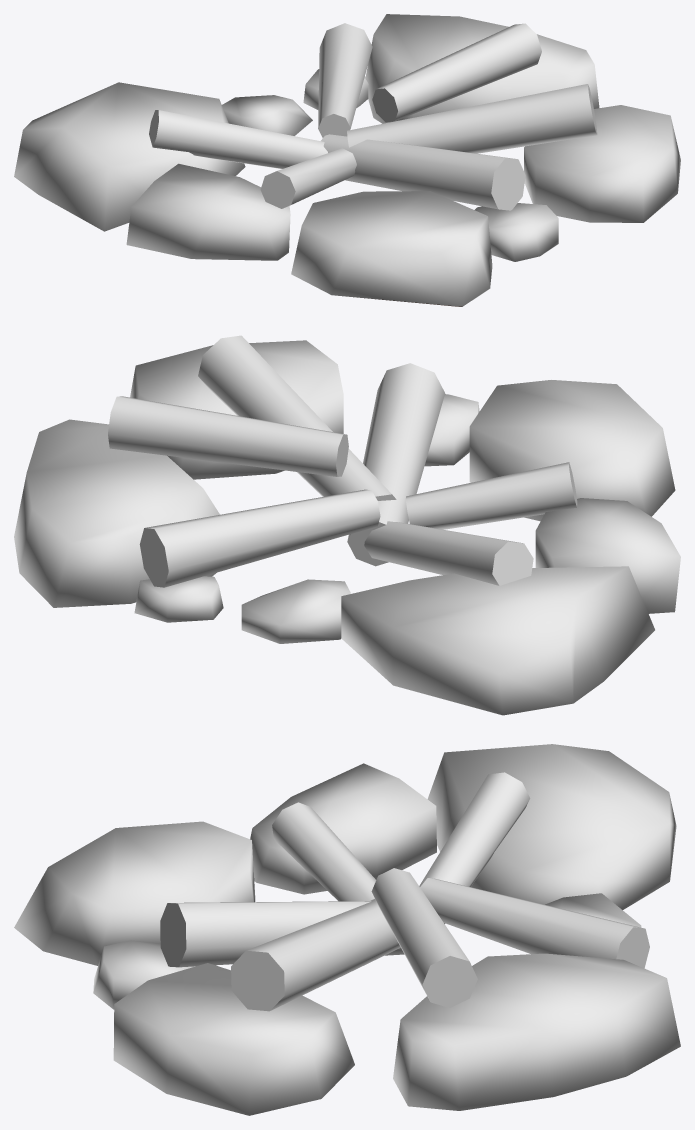
File: Bonfire.fbx
The picture shows the model from 3 angles, top to bottom: view 1: azimuth 30°, elevation 25°; view 2: azimuth 150°, elevation 25°; view 3: azimuth 270°, elevation 25°; orthographic projection. The views are drawn at different scales.
Parts seen in each view (by area): view 1: Bonfire; view 2: Bonfire; view 3: Bonfire.
Part boxes in pixels (x1,y1,x2,y2): Bonfire: (14, 14, 680, 306); Bonfire: (14, 335, 680, 715); Bonfire: (14, 744, 680, 1115).
Size of the model in its own units: 124 by 22.57 by 113.
Materials: 2 (1 with a texture image).
